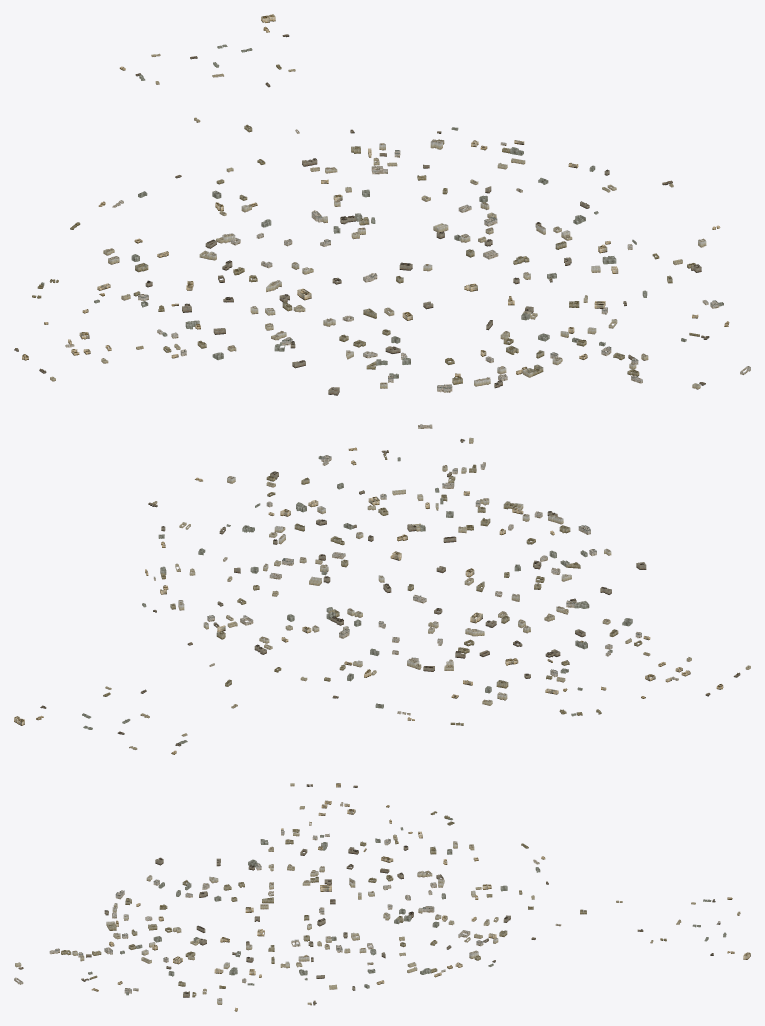
File: city_3d_model_9.glb
3 renders of one model, top to bottom at view 1: azimuth 30°, elevation 25°; view 2: azimuth 150°, elevation 25°; view 3: azimuth 270°, elevation 25°, orthographic. The views are drawn at different scales.
Parts seen in each view (by area): view 1: Object_92, Object_108, Object_230, Object_128, Object_204, Object_114; view 2: Object_92, Object_108, Object_128, Object_230, Object_204, Object_114; view 3: Object_92, Object_108, Object_230, Object_128, Object_204, Object_114.
Boxes of the visible parts, left/top/right/bottom form: Object_92: left=50, top=53, right=706, bottom=389; Object_108: left=32, top=64, right=699, bottom=384; Object_230: left=65, top=129, right=750, bottom=392; Object_128: left=14, top=34, right=709, bottom=395; Object_204: left=22, top=14, right=729, bottom=376; Object_114: left=41, top=44, right=723, bottom=378; Object_92: left=105, top=437, right=750, bottom=749; Object_108: left=103, top=454, right=642, bottom=725; Object_128: left=40, top=439, right=740, bottom=746; Object_230: left=153, top=424, right=678, bottom=715; Object_204: left=14, top=447, right=723, bottom=754; Object_114: left=82, top=456, right=632, bottom=744; Object_92: left=15, top=783, right=740, bottom=1005; Object_108: left=61, top=811, right=666, bottom=997; Object_230: left=14, top=802, right=561, bottom=993; Object_128: left=18, top=784, right=720, bottom=1005; Object_204: left=91, top=783, right=750, bottom=1011; Object_114: left=88, top=817, right=726, bottom=995.
Size of the model in its own units: 741 by 42.29 by 936.
Materials: 6 (6 with a texture image).
